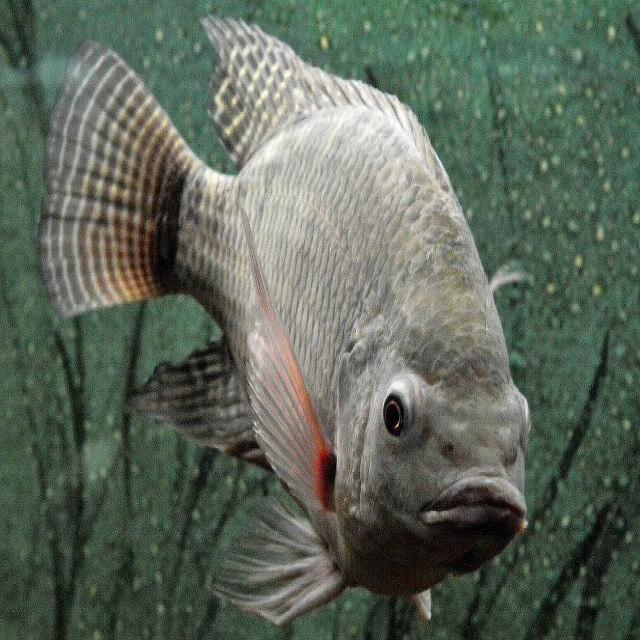ikan: (33, 8, 567, 618)
